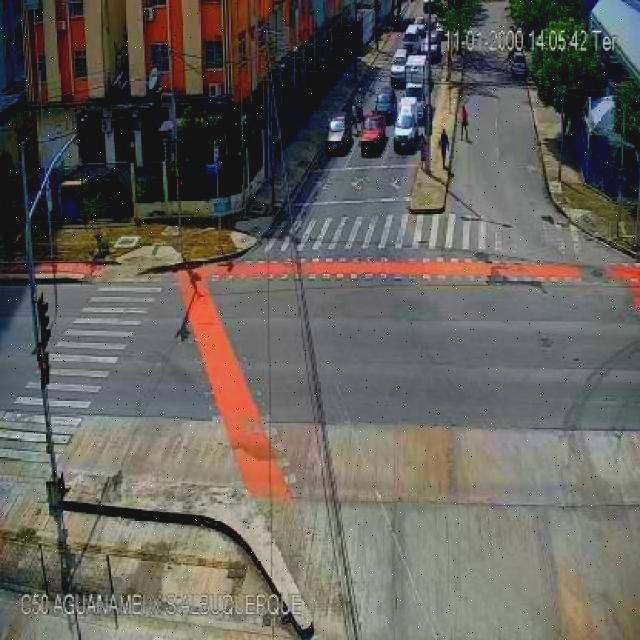Bus: (402, 23, 424, 55)
Car: (360, 112, 388, 156), (323, 114, 349, 150), (420, 24, 443, 61), (374, 87, 397, 123), (390, 50, 408, 88), (510, 52, 528, 81), (435, 24, 445, 42)
Van: (394, 97, 424, 153)
